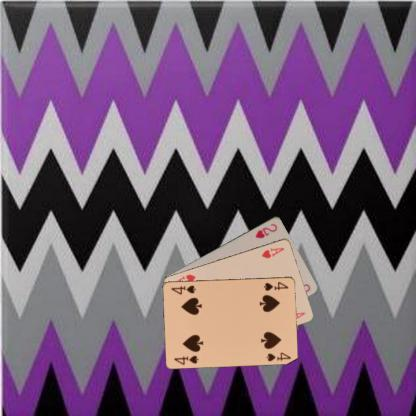2h: (252, 221, 278, 239)
4s: (261, 278, 290, 292), (172, 352, 200, 366)
Ah: (259, 245, 285, 259)
